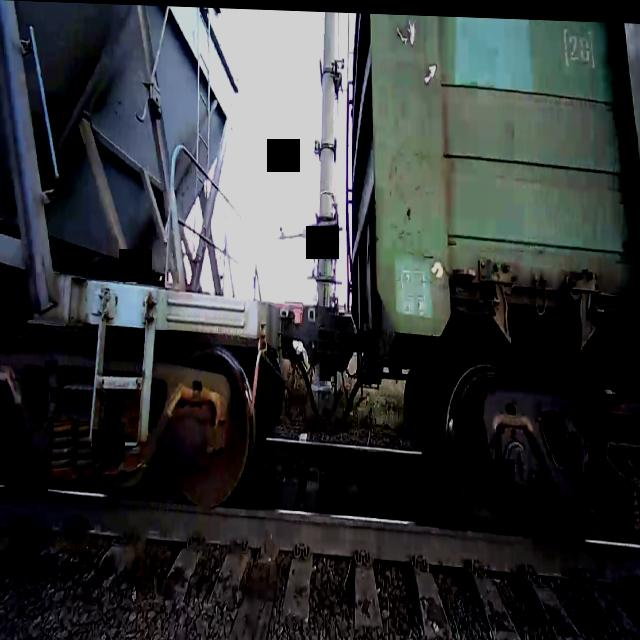gondola: (321, 9, 640, 577)
hopper: (0, 0, 297, 533)
